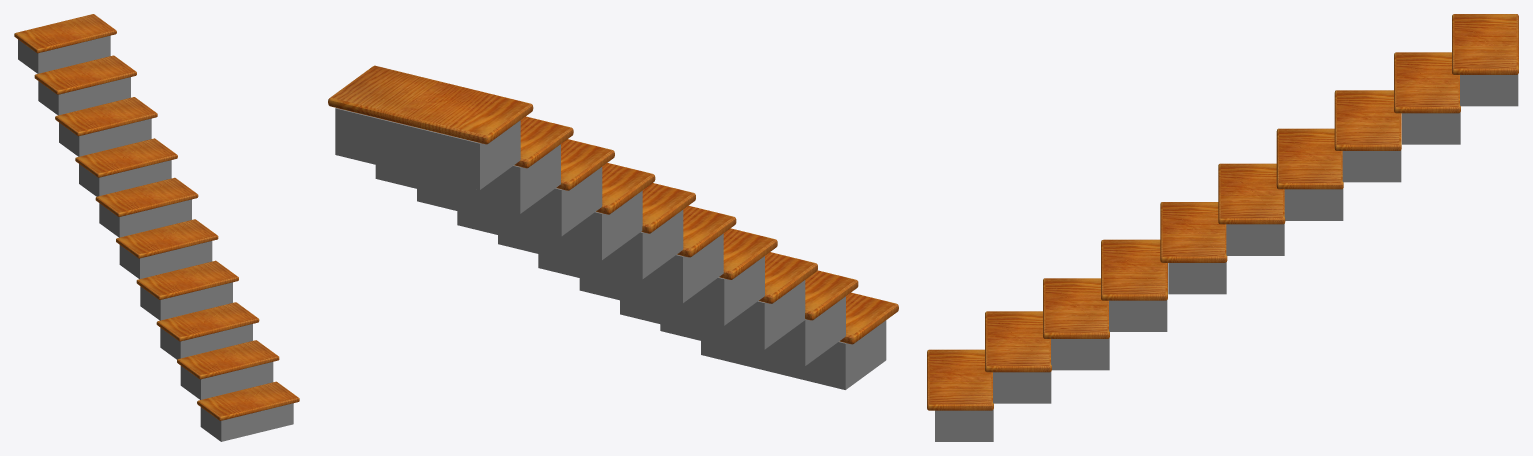
File: stairs.FBX
The picture shows the model from 3 angles, left to right: view 1: azimuth 30°, elevation 25°; view 2: azimuth 150°, elevation 25°; view 3: azimuth 270°, elevation 25°; orthographic projection. The views are drawn at different scales.
Visible parts, largest first — view 1: Box007, Box001, Box009, Box013, Box017, Box003, Box005, Box015, Box019, Box011, Box018, Box010 (+8 smaller); view 2: Box003, Box004, Box018, Box006, Box014, Box010, Box002, Box008, Box016, Box012, Box020, Box015 (+8 smaller); view 3: Box003, Box015, Box005, Box007, Box011, Box001, Box009, Box017, Box019, Box013, Box008, Box006 (+8 smaller).
Boxes of the visible parts, x1,y1,x2,y2 form: Box007: [55, 97, 157, 136]; Box001: [34, 55, 136, 94]; Box009: [116, 219, 218, 258]; Box013: [156, 302, 259, 341]; Box017: [197, 381, 299, 420]; Box003: [14, 14, 116, 53]; Box005: [75, 138, 177, 177]; Box015: [136, 260, 238, 299]; Box019: [177, 340, 279, 379]; Box011: [95, 177, 198, 216]; Box018: [200, 403, 293, 441]; Box010: [119, 241, 212, 279]; Box003: [328, 65, 533, 144]; Box004: [335, 108, 520, 189]; Box018: [701, 320, 886, 389]; Box006: [457, 190, 642, 260]; Box014: [620, 280, 805, 349]; Box010: [538, 233, 723, 303]; Box002: [375, 144, 560, 213]; Box008: [417, 167, 602, 236]; Box016: [579, 256, 764, 325]; Box012: [498, 210, 683, 279]; Box020: [660, 296, 845, 366]; Box015: [719, 228, 777, 279]; Box003: [1452, 14, 1518, 74]; Box015: [1101, 239, 1167, 300]; Box005: [1276, 128, 1343, 189]; Box007: [1334, 90, 1401, 150]; Box011: [1218, 163, 1285, 224]; Box001: [1394, 52, 1460, 113]; Box009: [1160, 202, 1227, 262]; Box017: [927, 349, 993, 410]; Box019: [985, 311, 1051, 372]; Box013: [1043, 278, 1109, 338]; Box008: [1342, 150, 1401, 182]; Box006: [1284, 189, 1343, 220].
Size of the model in its own units: 56.53 by 176 by 251.
